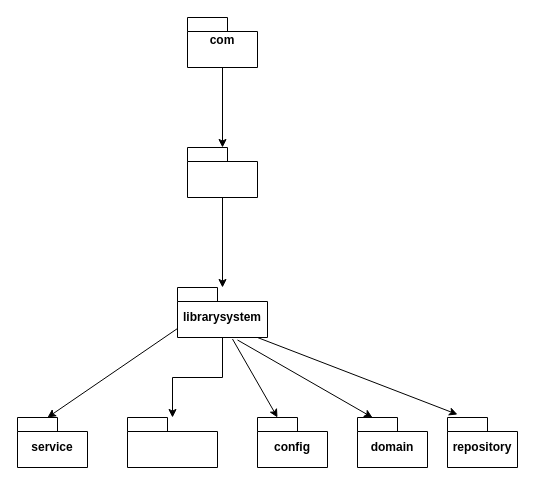
This 535x485 diagram has some shape labels left out. Here are the shapes that lost their labels. From the top down, the centre of each, then its label:
At point 222,172: "example".
At point 172,442: "controller".
